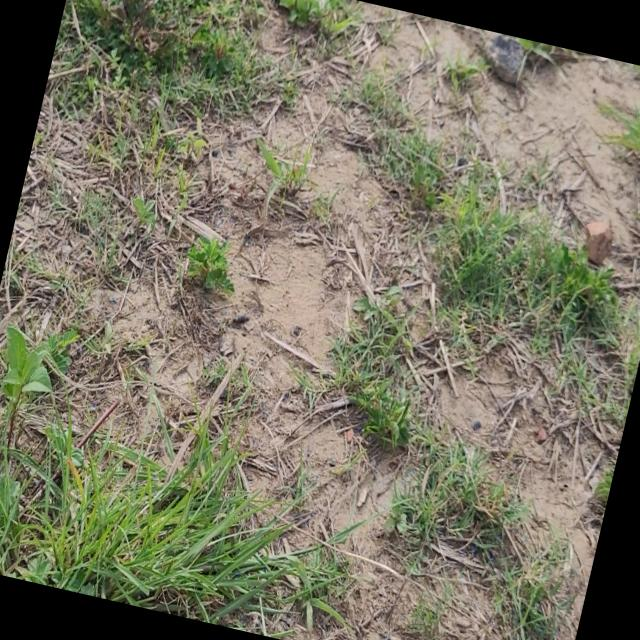grass: (0, 326, 348, 638), (330, 297, 526, 557), (435, 195, 617, 341), (50, 0, 274, 116), (493, 552, 572, 640), (372, 126, 446, 209)
red-sand: (0, 2, 640, 640), (403, 337, 602, 635)
